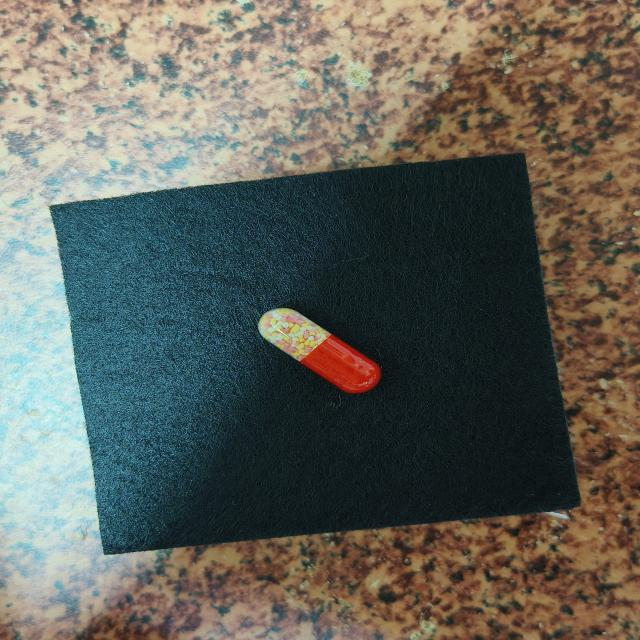Intact Capsule: (258, 308, 381, 393)
